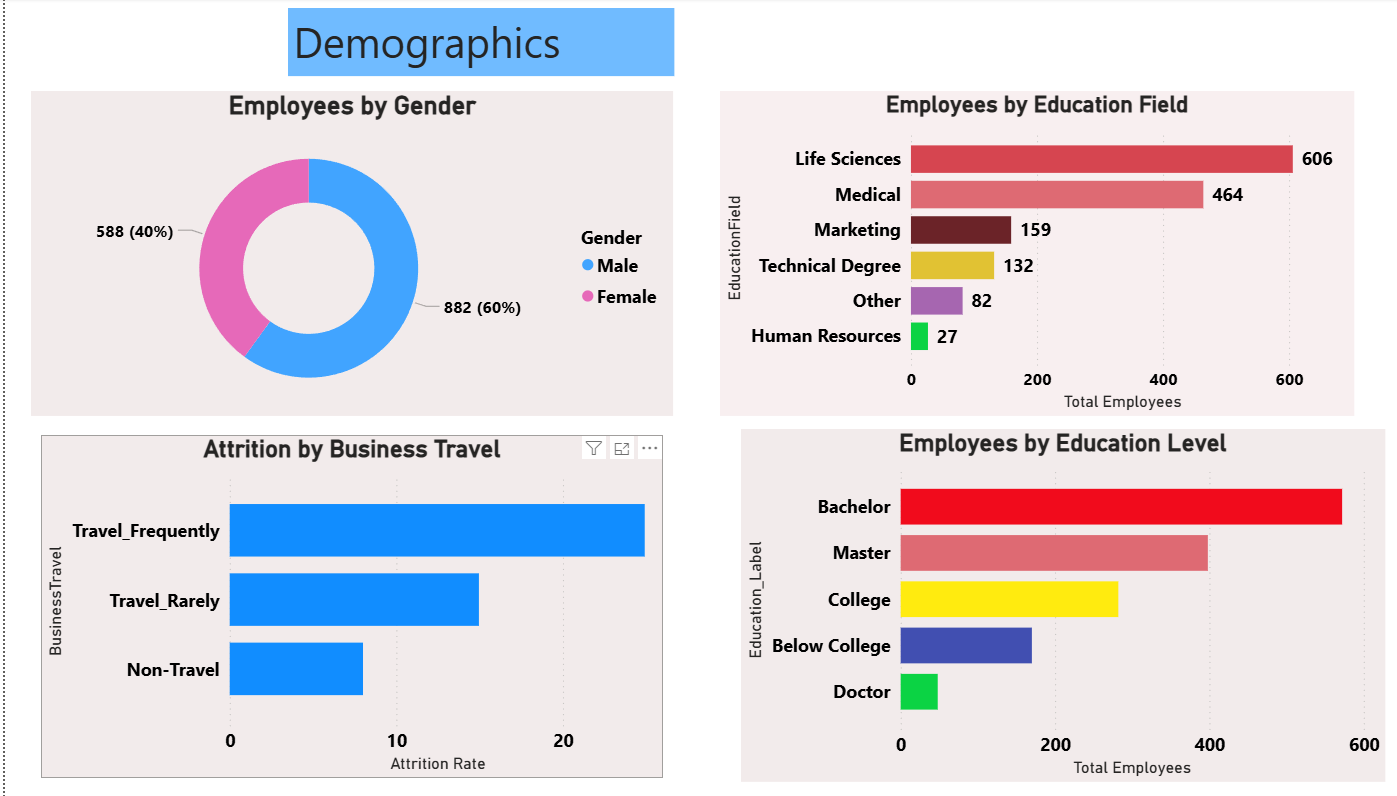

This screenshot's page, from the dashboard's own definition file:
{"tool":"powerbi","page":{"name":"Page 1","canvas":[1280,720],"ordinal":2},"visuals":[{"type":"donutChart","title":"Employees by Gender","fields":{"Category":["HR_Attrition_Cleanedfromsql.Gender"],"Y":["HR_Attrition_Cleanedfromsql.Total Employees"]},"box":[23.4,83.6,575.4,291.4],"z":0},{"type":"clusteredBarChart","title":"Employees by Education Field","fields":{"Category":["HR_Attrition_Cleanedfromsql.EducationField"],"Y":["HR_Attrition_Cleanedfromsql.Total Employees"]},"box":[640.6,83.6,568.1,291.4],"z":1},{"type":"clusteredBarChart","title":"Employees by Education Level","fields":{"Category":["HR_Attrition_Cleanedfromsql.Education_Label"],"Y":["HR_Attrition_Cleanedfromsql.Total Employees"]},"box":[659.1,386.1,576.7,316],"z":2},{"type":"clusteredBarChart","title":"Attrition by Business Travel","fields":{"Category":["HR_Attrition_Cleanedfromsql.BusinessTravel"],"Y":["HR_Attrition_Cleanedfromsql.Attrition Rate"]},"box":[32,391,557,307.4],"z":3},{"type":"textbox","box":[253.3,8.6,345.5,61.5],"z":4}]}

Visuals, with their boxes in screenshot pixels (x1, y1, x2, y2), scaled from the page's 1280x720 canvas onto the 1397x796 screenshot:
"Employees by Gender" donutChart: region(26, 92, 654, 415)
"Employees by Education Field" clusteredBarChart: region(699, 92, 1319, 415)
"Employees by Education Level" clusteredBarChart: region(719, 427, 1349, 776)
"Attrition by Business Travel" clusteredBarChart: region(35, 432, 643, 772)
textbox: region(276, 10, 654, 77)
